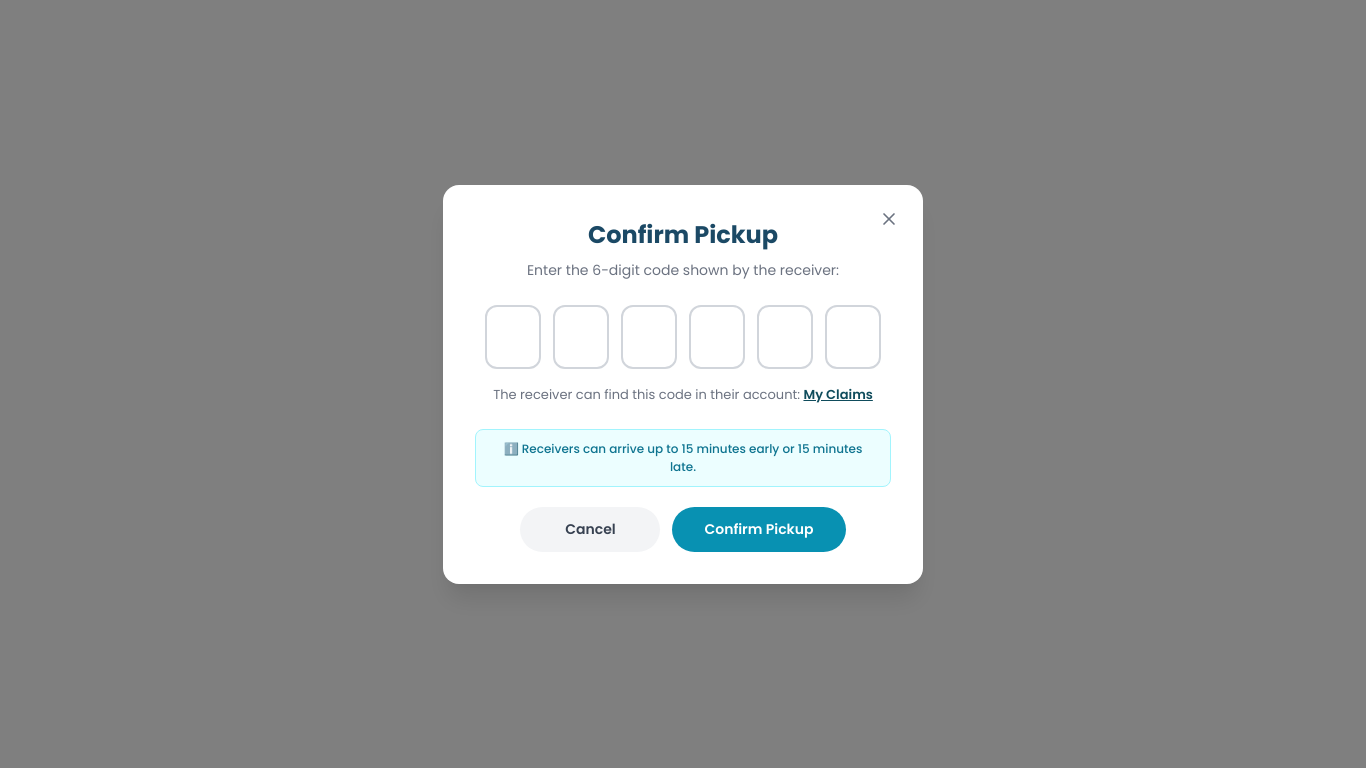
Test: ConfirmPickupModal › handles paste of 6-digit code
This screenshot has width=1366, height=768.
Click the 1st field: (513, 336) [485,304,541,368]
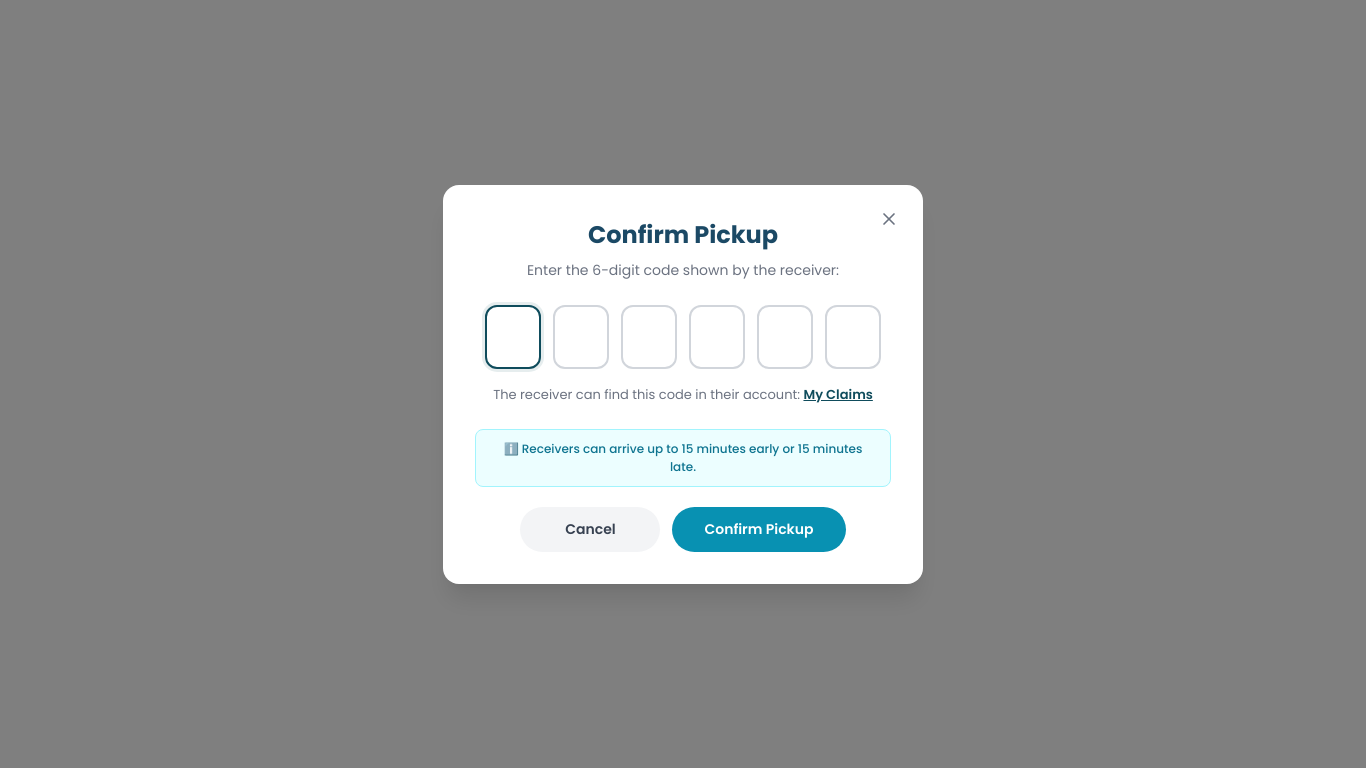
Type keys "123456"
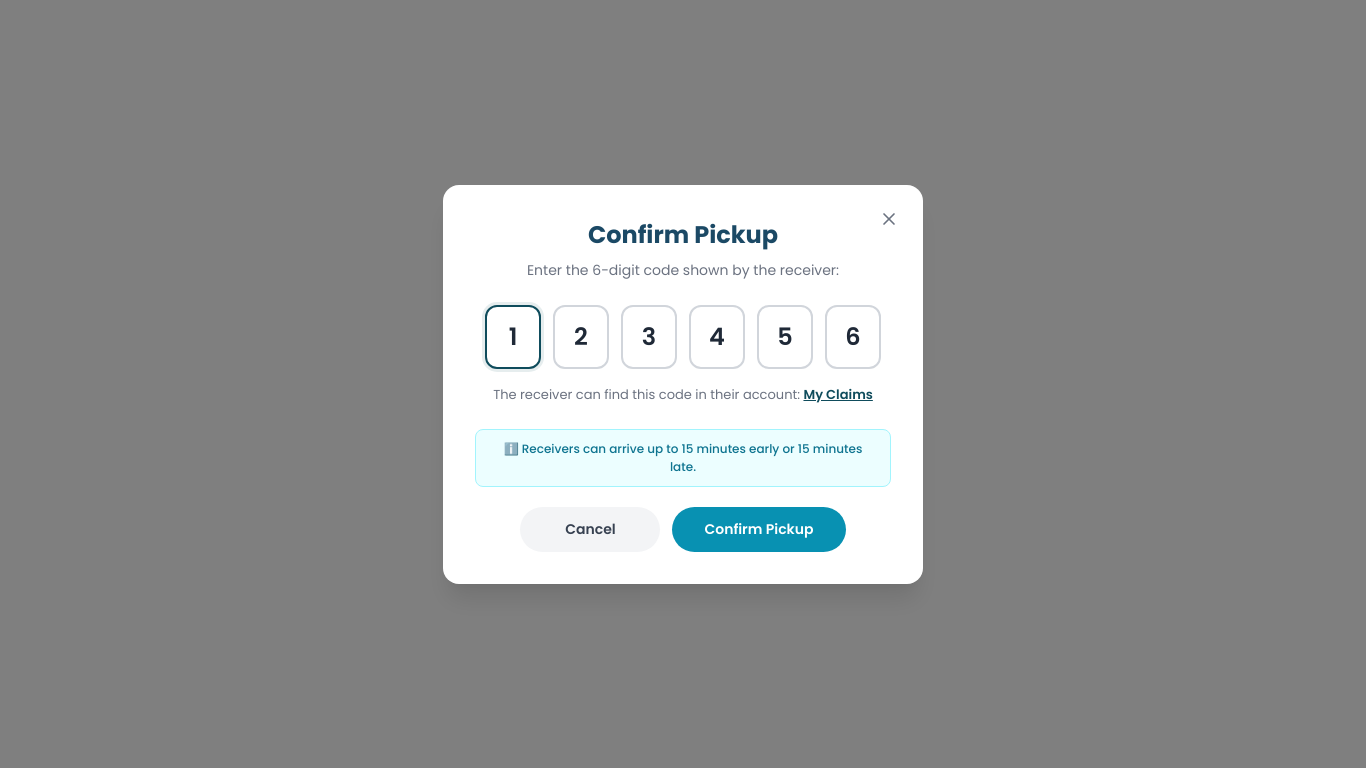
Now the 1st field holds "1", box [485,304,541,368]
Now the 2nd field holds "2", box [553,304,609,368]
Now the 3rd field holds "3", box [621,304,677,368]
